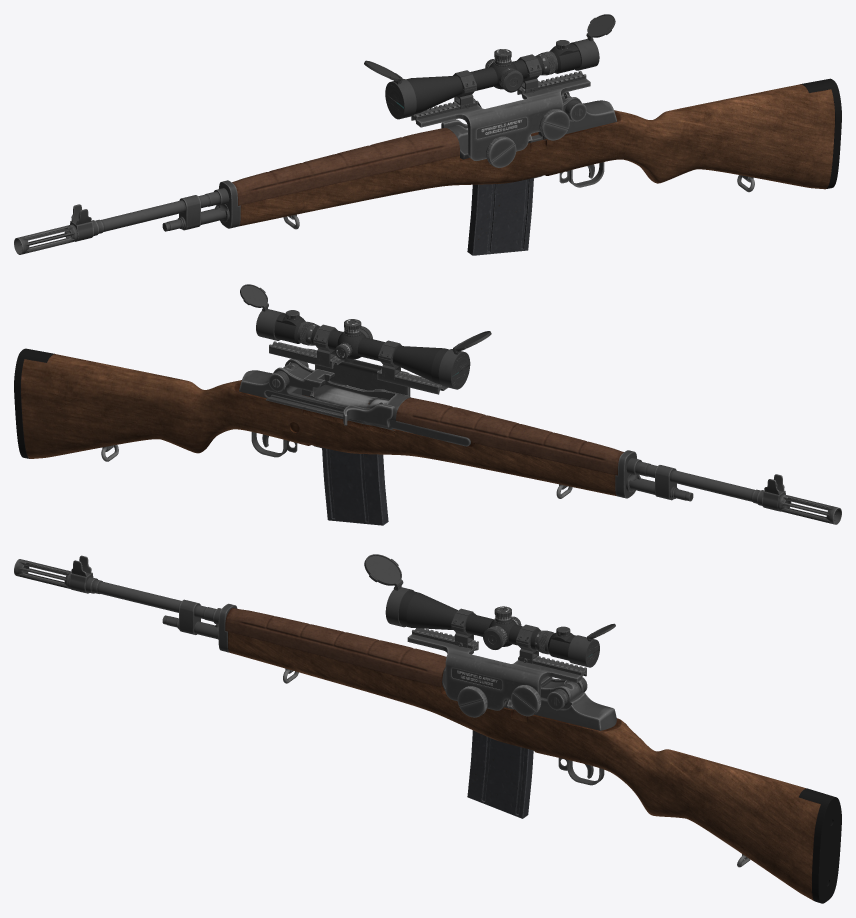
File: M1A SPRINGFIELD BAKED.fbx
3 views of the same model, one above another, from view 1: azimuth 30°, elevation 25°; view 2: azimuth 150°, elevation 25°; view 3: azimuth 330°, elevation 25° (orthographic).
Parts seen in each view (by area): view 1: Cube.021, Plane.004, Cube.001, Cube.002; view 2: Cube.021, Plane.004, Cube.002, Cube.001, Cube.003; view 3: Cube.021, Plane.004, Cube.001, Cube.002.
Boxes of the visible parts, x1,y1,x2,y2 form: Cube.021: (14,78,841,254); Plane.004: (364,14,615,119); Cube.001: (411,71,590,167); Cube.002: (467,178,533,255); Cube.021: (14,348,841,524); Plane.004: (240,284,491,389); Cube.002: (322,447,388,525); Cube.001: (269,341,447,396); Cube.003: (310,384,394,427); Cube.021: (14,555,841,903); Plane.004: (364,554,615,667); Cube.001: (407,628,586,717); Cube.002: (467,730,533,818).
Size of the model in its own units: 713 by 195 by 55.31.
